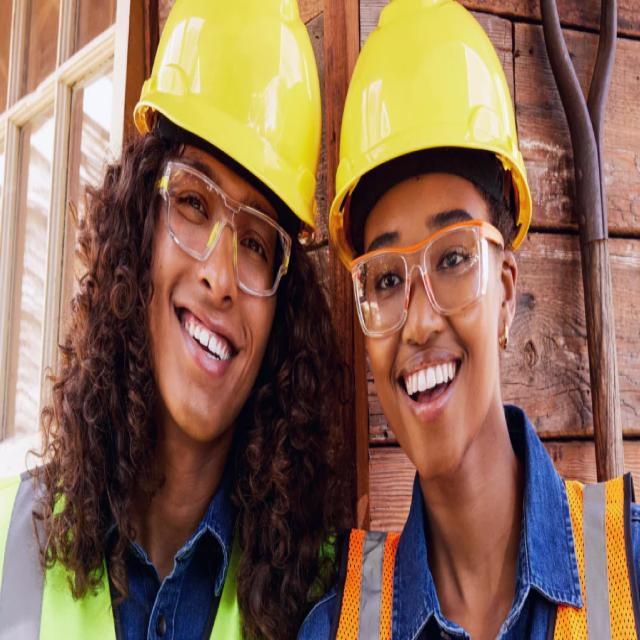Hard Hat: (328, 0, 541, 251), (136, 1, 330, 243)
Reflective Vest: (0, 448, 347, 640), (334, 460, 640, 640)
Safety Glasses: (125, 147, 302, 293), (345, 219, 507, 340)
